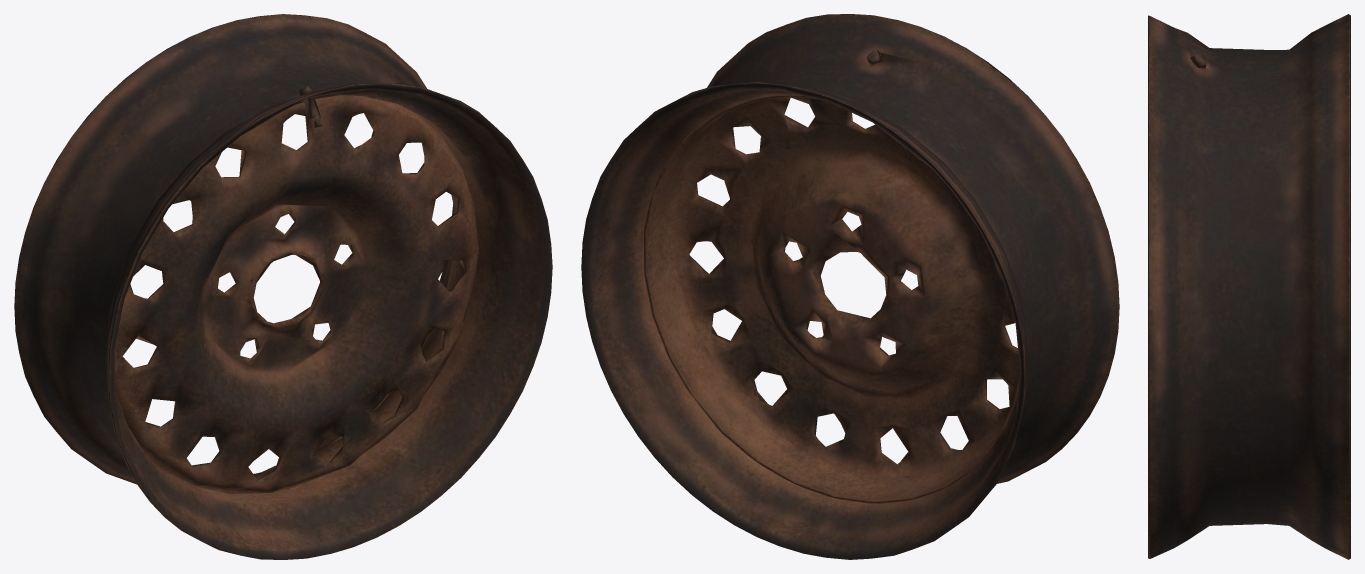
File: rim.glb
3 views of the same model, side by side, from view 1: azimuth 30°, elevation 25°; view 2: azimuth 150°, elevation 25°; view 3: azimuth 270°, elevation 25° (orthographic). The views are drawn at different scales.
Parts seen in each view (by area): view 1: rim; view 2: rim; view 3: rim.
Part boxes in pixels (x1=…): rim: x1=14, y1=14, x2=552, y2=559; rim: x1=581, y1=14, x2=1119, y2=559; rim: x1=1148, y1=14, x2=1350, y2=559.
Size of the model in its own units: 0.4039 by 0.4039 by 0.15.
Materials: 1 (1 with a texture image).
